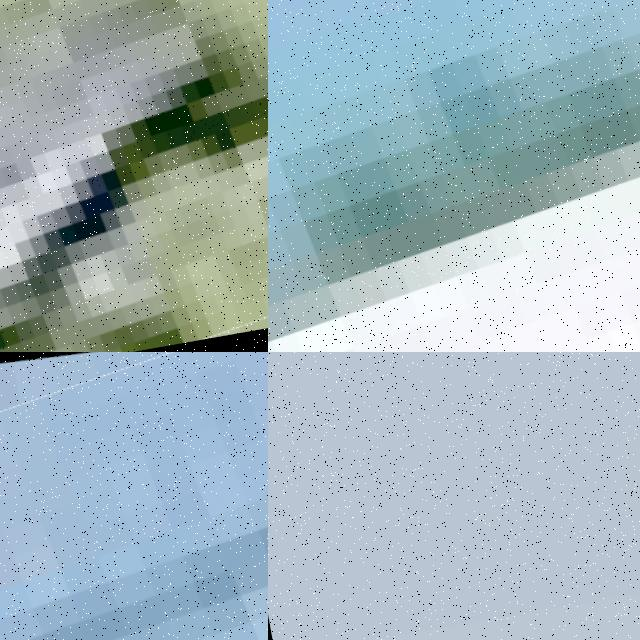0: (0, 0, 268, 352)
drone: (268, 0, 640, 352), (0, 352, 268, 640)
